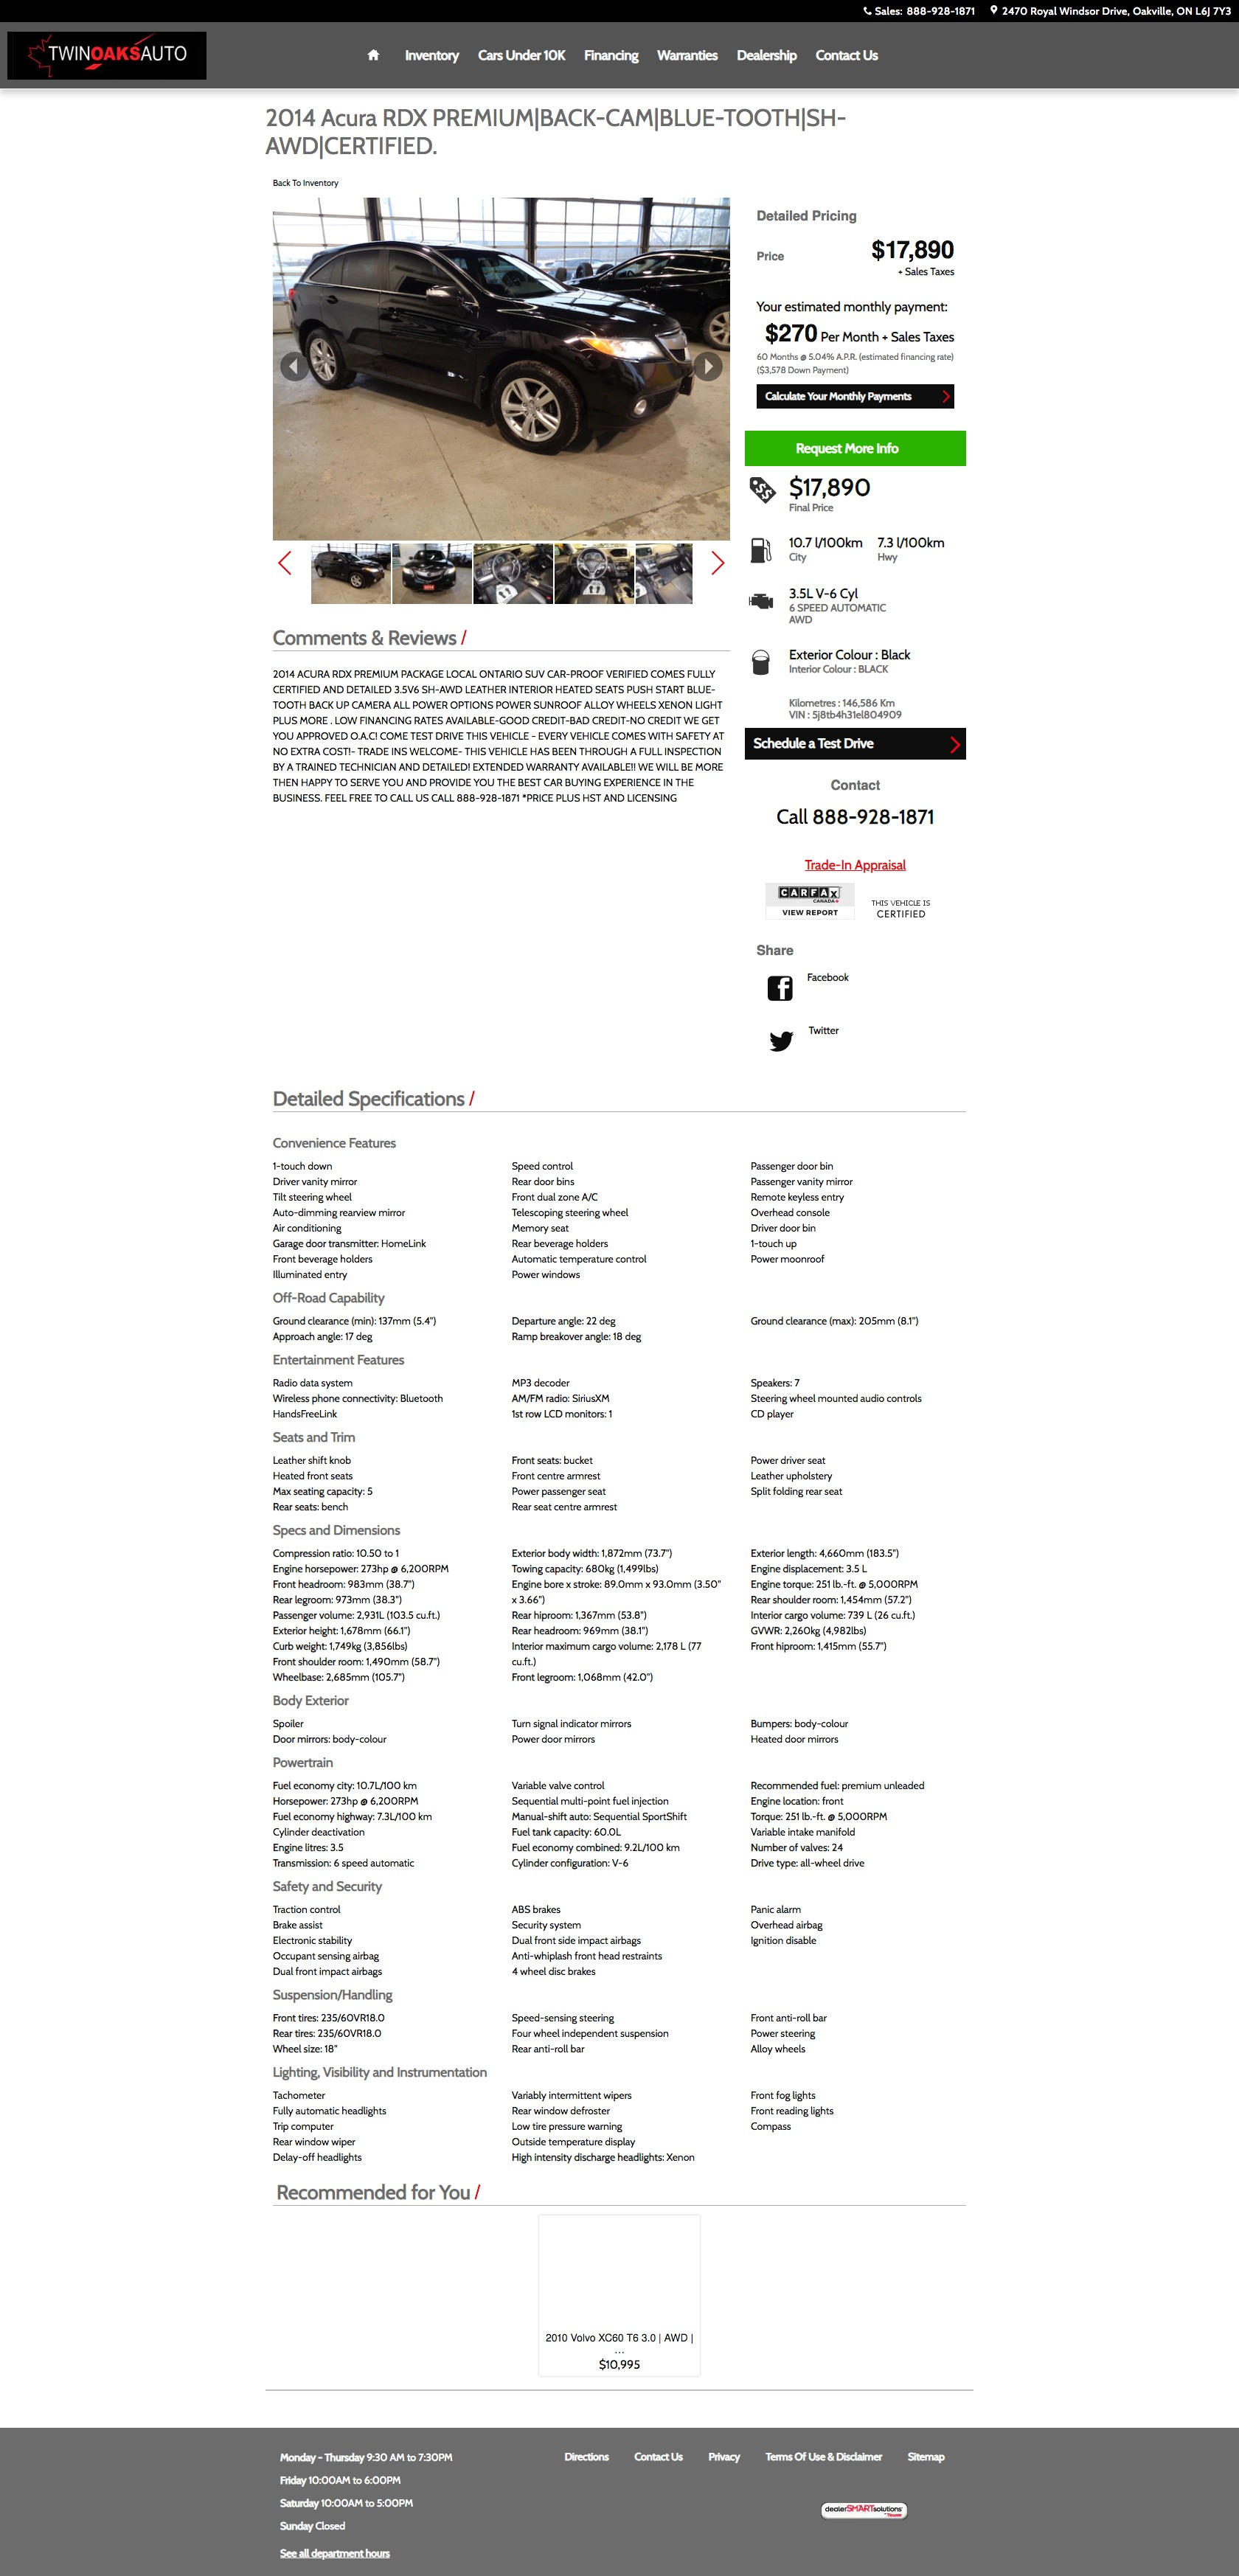car: (712, 550, 726, 577)
